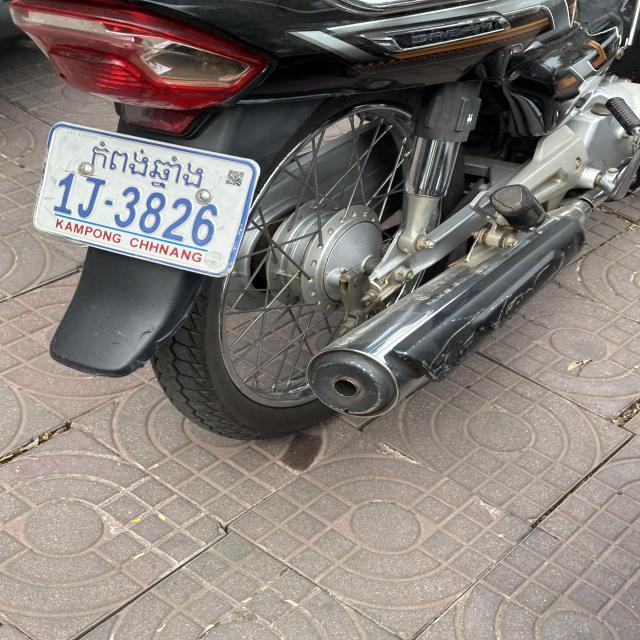Kampong_Chhnang: (89, 139, 205, 188)
